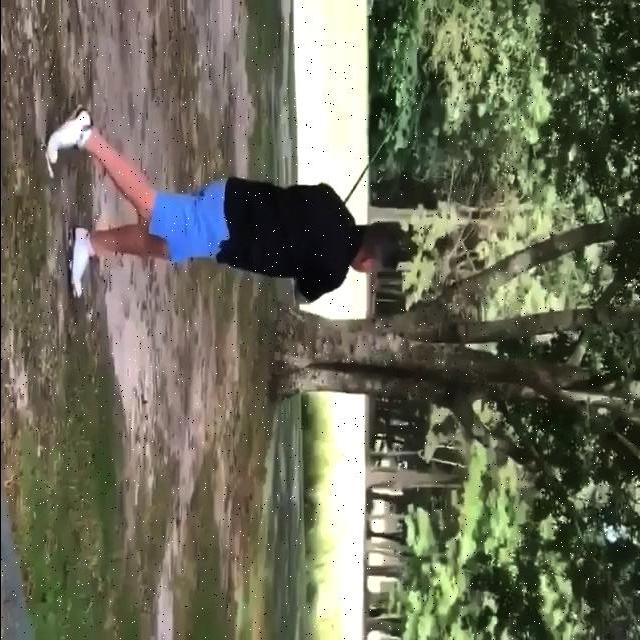golf club-handle: (343, 66, 427, 206)
golf club-head: (418, 66, 427, 82)
